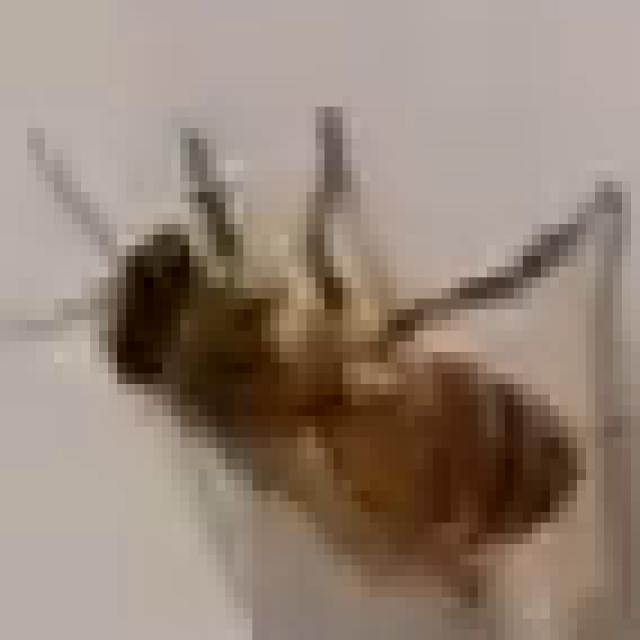honeybee: (59, 175, 585, 562)
